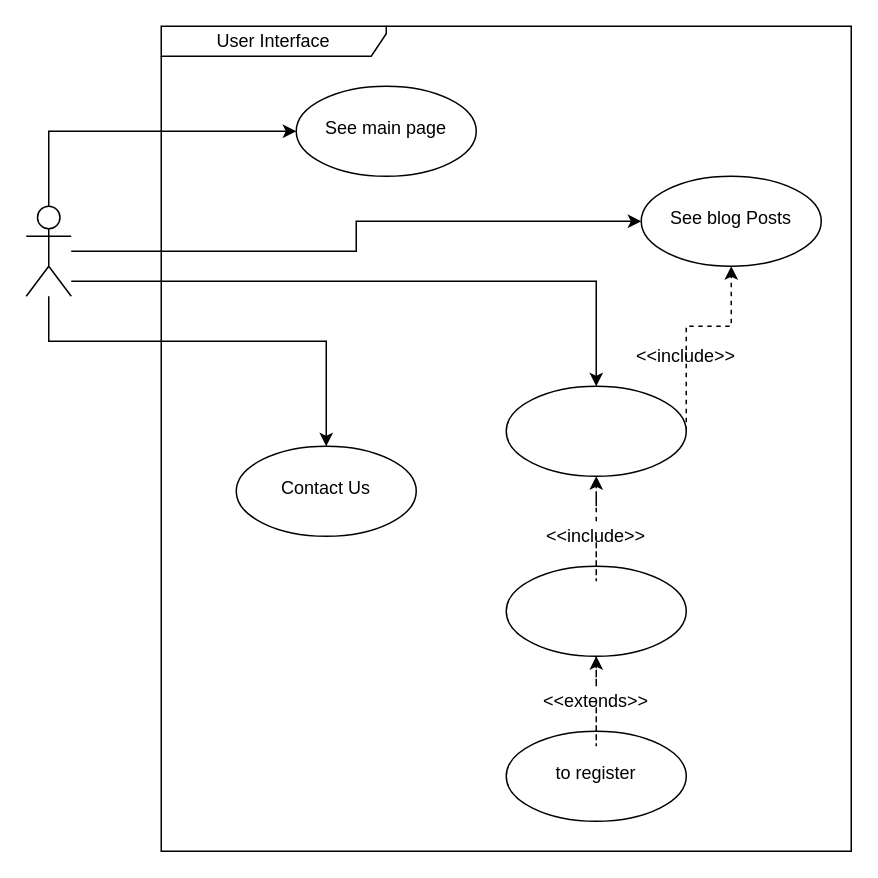
This 878x878 diagram has some shape labels left out. Each missing label, with the centre of its shape:
Login: point (595, 610)
Post comment: point (595, 430)
User: point (48, 250)
